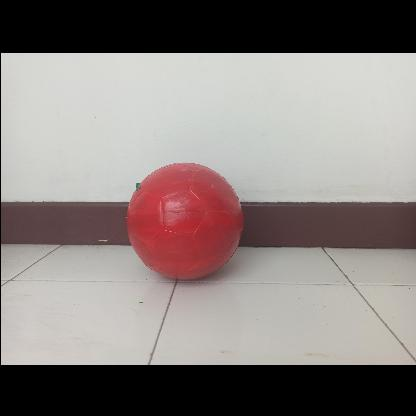red_ball: (127, 162, 242, 276)
